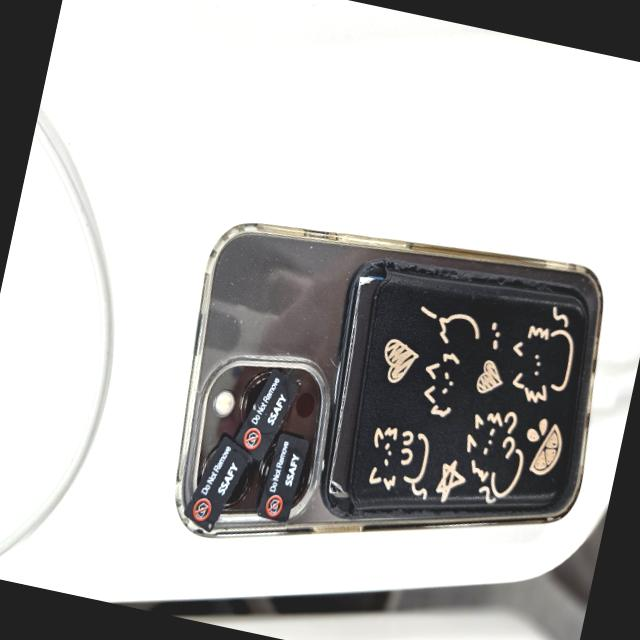phone: (148, 187, 628, 613)
sticker: (180, 428, 254, 538), (230, 362, 302, 466), (254, 427, 310, 525)
